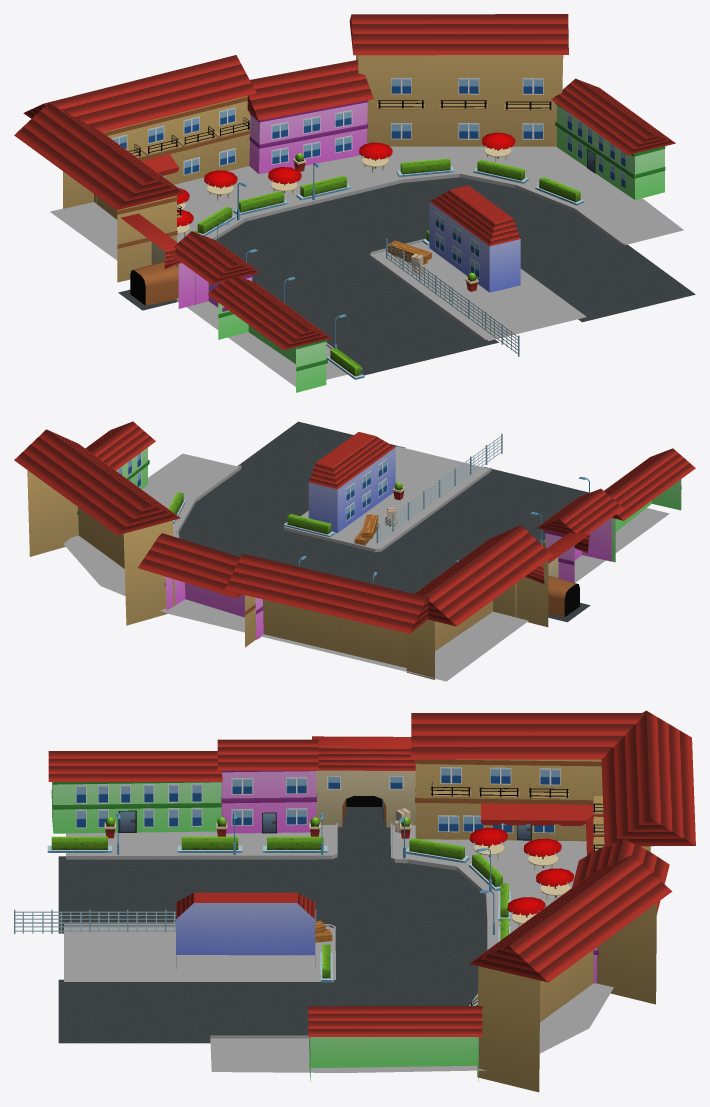
File: level_3.fbx
3 views of the same model, one above another, from view 1: azimuth 30°, elevation 25°; view 2: azimuth 150°, elevation 25°; view 3: azimuth 270°, elevation 25° (orthographic). The views are drawn at different scales.
Parts seen in each view (by area): view 1: pPlane26, polySurface308, polySurface261, polySurface219, polySurface306, pCube59, polySurface260, polySurface265, polySurface299, pCube44, polySurface298, polySurface137 (+20 smaller); view 2: pPlane26, polySurface308, polySurface261, polySurface219, pCube59, pCube44, polySurface306, polySurface265, polySurface299, polySurface298, polySurface260, polySurface137 (+6 smaller); view 3: pPlane26, polySurface308, polySurface219, polySurface261, polySurface299, pCube59, polySurface260, polySurface265, pCube44, polySurface137, polySurface298, polySurface263 (+17 smaller).
Boxes of the visible parts, bbox=[...] form: pPlane26: bbox=[118, 177, 695, 375]; polySurface308: bbox=[14, 55, 256, 282]; polySurface261: bbox=[50, 146, 683, 260]; polySurface219: bbox=[356, 55, 563, 146]; polySurface306: bbox=[247, 60, 373, 174]; pCube59: bbox=[349, 14, 568, 55]; polySurface260: bbox=[551, 78, 675, 199]; polySurface265: bbox=[373, 242, 586, 340]; polySurface299: bbox=[207, 275, 331, 392]; pCube44: bbox=[429, 185, 520, 292]; polySurface298: bbox=[170, 231, 259, 311]; polySurface137: bbox=[120, 213, 195, 305]; pPlane26: bbox=[178, 421, 590, 622]; polySurface308: bbox=[224, 525, 553, 679]; polySurface261: bbox=[63, 453, 528, 681]; polySurface219: bbox=[27, 470, 175, 625]; pCube59: bbox=[14, 429, 180, 535]; pCube44: bbox=[308, 432, 395, 532]; polySurface306: bbox=[138, 533, 263, 639]; polySurface265: bbox=[301, 446, 488, 548]; polySurface299: bbox=[604, 448, 695, 562]; polySurface298: bbox=[537, 488, 623, 582]; polySurface260: bbox=[77, 421, 155, 534]; polySurface137: bbox=[515, 532, 589, 617]; pPlane26: bbox=[58, 807, 487, 1043]; polySurface308: bbox=[411, 710, 695, 851]; polySurface219: bbox=[477, 903, 656, 1092]; polySurface261: bbox=[210, 825, 613, 1072]; polySurface299: bbox=[48, 751, 222, 833]; pCube59: bbox=[469, 855, 672, 982]; polySurface260: bbox=[308, 1006, 482, 1081]; polySurface265: bbox=[64, 926, 333, 981]; pCube44: bbox=[176, 892, 315, 968]; polySurface137: bbox=[312, 736, 415, 827]; polySurface298: bbox=[217, 739, 318, 833]; polySurface263: bbox=[66, 825, 335, 854].
Size of the model in its own units: 714 by 166 by 709.
